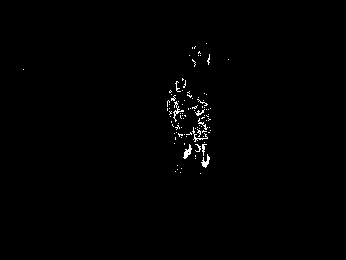person: (168, 78, 194, 158), (192, 89, 213, 169)
